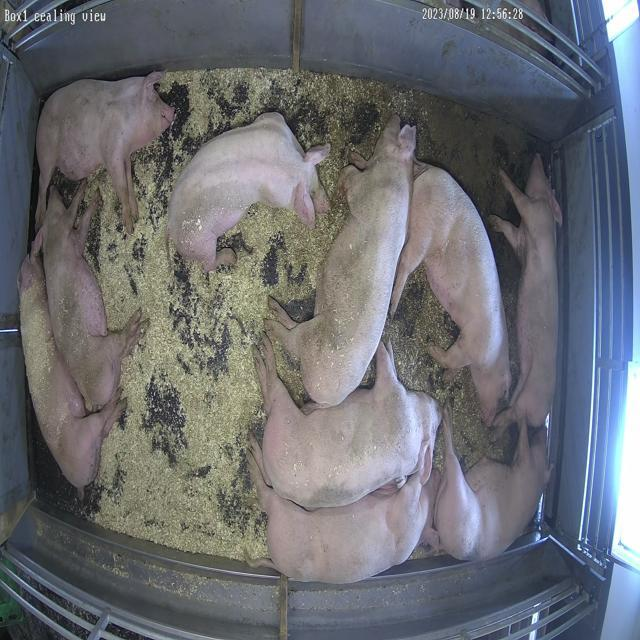Dirt: (312, 74, 537, 220), (384, 266, 512, 464), (486, 211, 521, 356)
Pig: (435, 155, 563, 561), (271, 115, 417, 407), (391, 160, 512, 424), (256, 340, 441, 510), (169, 113, 328, 270), (19, 250, 122, 490), (251, 452, 431, 584), (41, 182, 140, 412), (36, 71, 174, 232), (493, 155, 563, 428)
